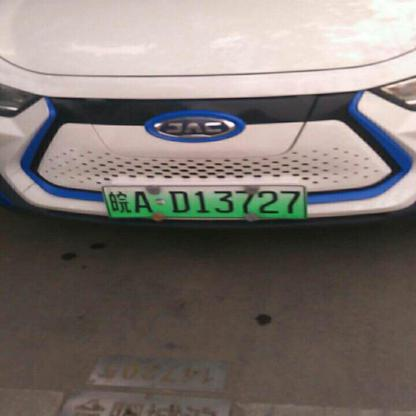lp: (103, 183, 306, 219)
